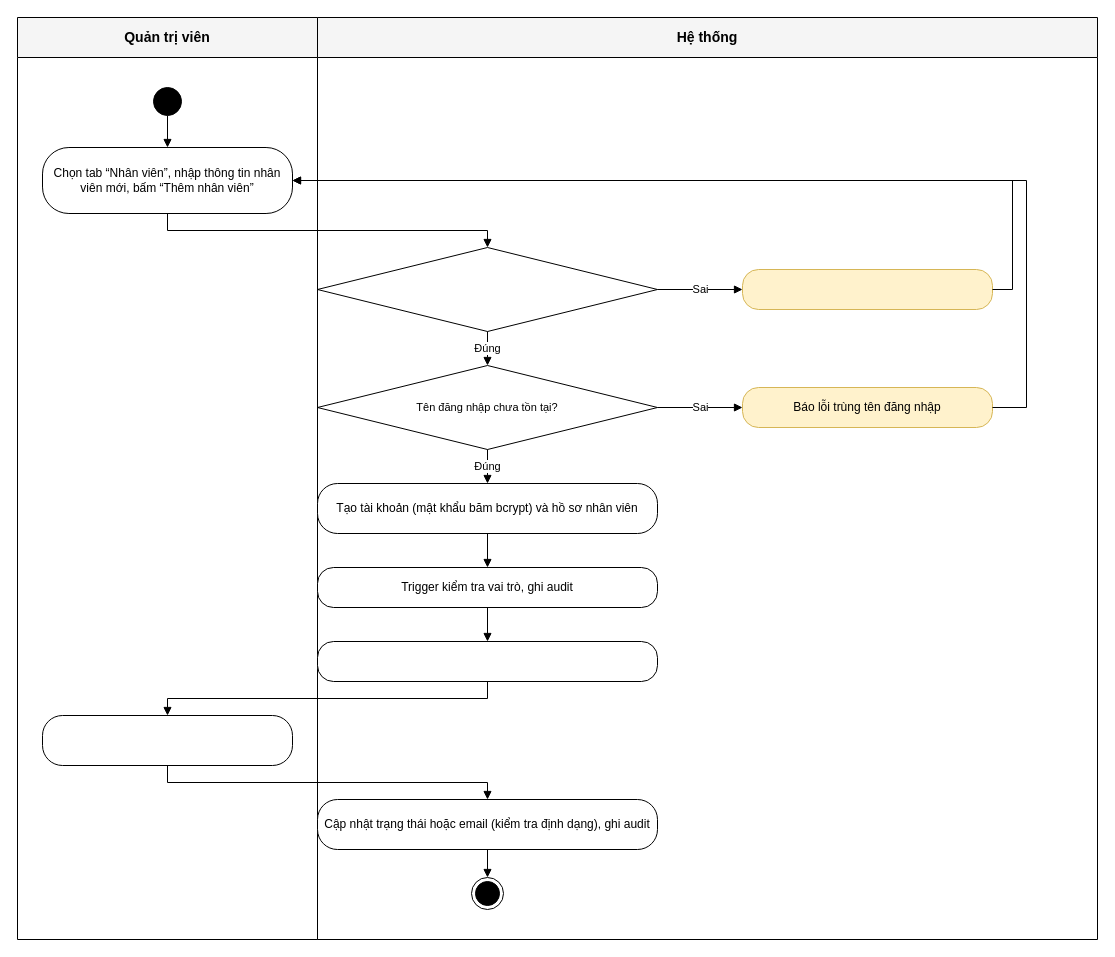
Image size: 1115x957. Some labels were removed from this diagram. Here are the shapes that lost their labels. From the top down, the centre of each, then its label:
At point (487, 289): "Dữ liệu hợp lệ?".
At point (867, 289): "Báo lỗi từng trường".
At point (487, 661): "Thông báo thành công, làm mới danh sách".
At point (167, 740): "(Tùy chọn) Bấm Khóa/Mở khóa hoặc Sửa email".
